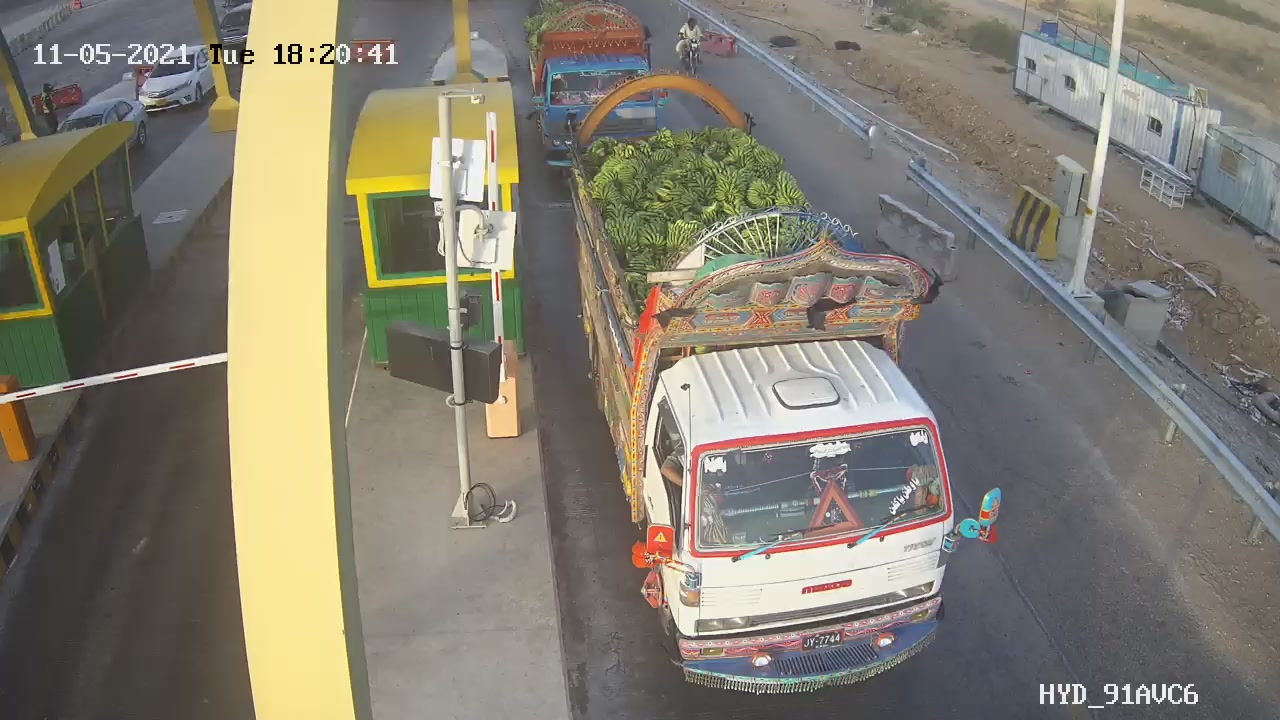F5: (556, 79, 960, 703)
